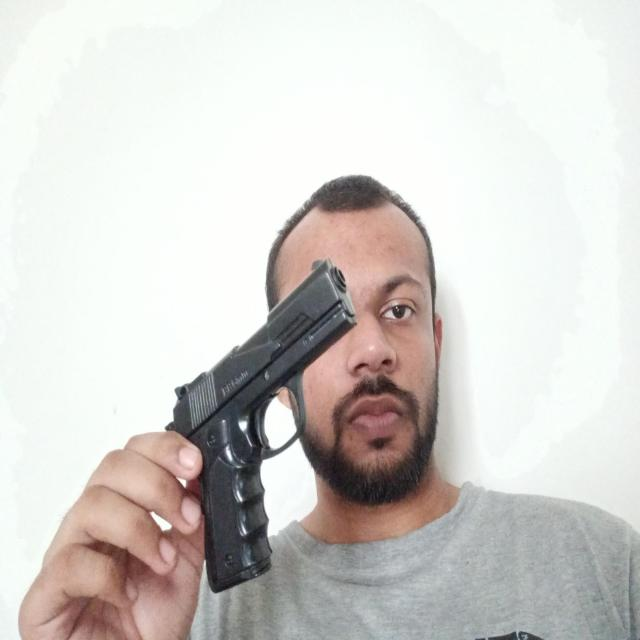handgun: (165, 258, 356, 594)
